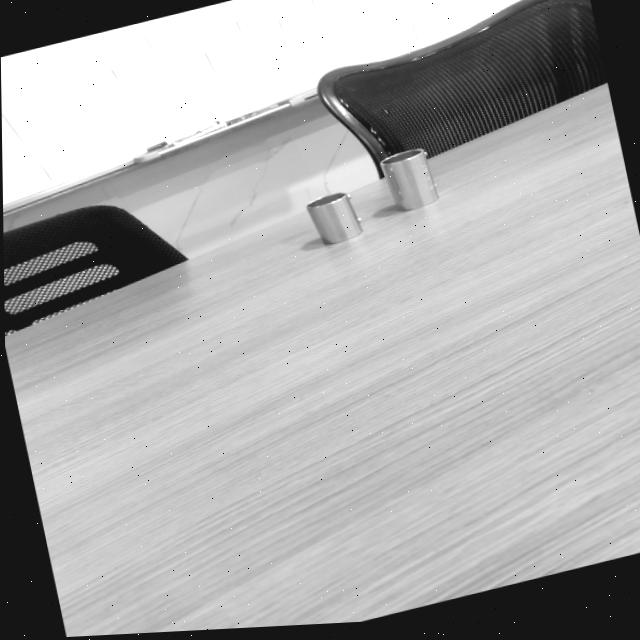Co_Lon: (378, 145, 440, 214)
Co_Nho: (304, 186, 364, 249)
